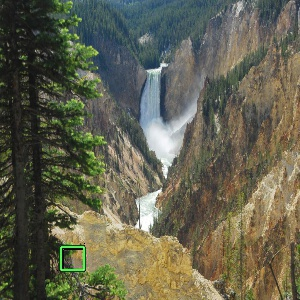square: (58, 245, 86, 273)
